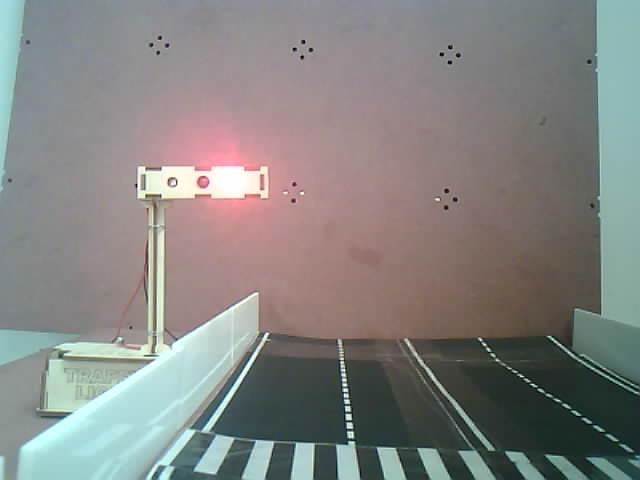crosswalk: (137, 425, 640, 477)
red: (103, 159, 286, 326)
